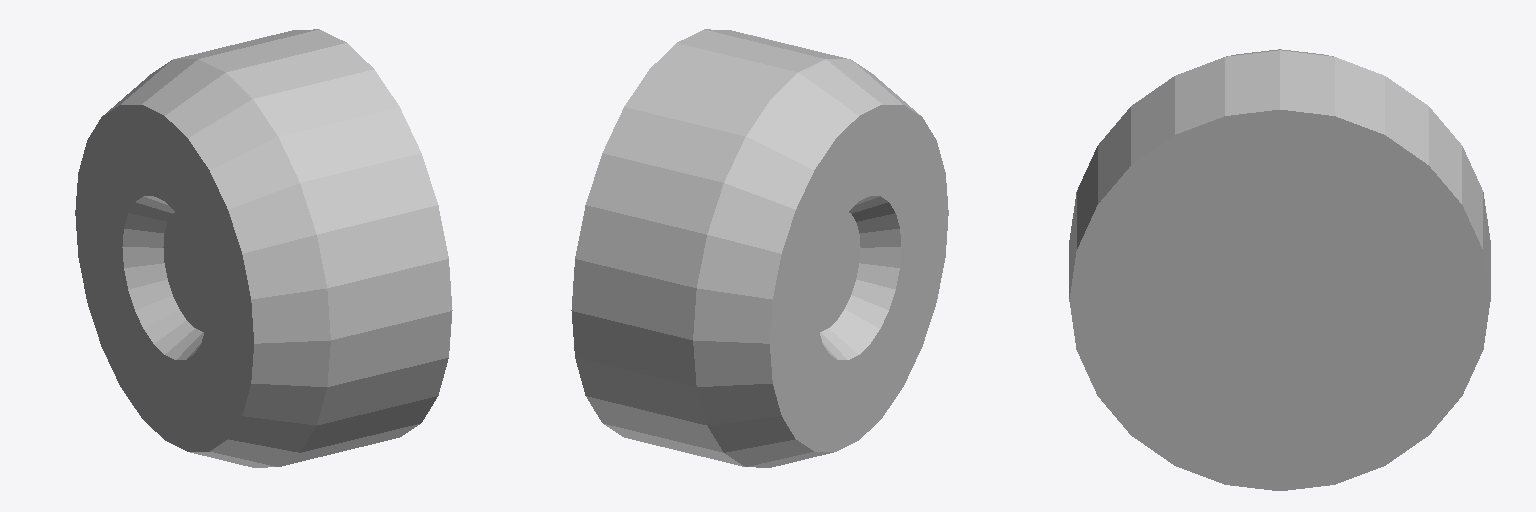
Rendered from wheelDefault.obj.
3 renders of one model, left to right at view 1: azimuth 30°, elevation 25°; view 2: azimuth 150°, elevation 25°; view 3: azimuth 270°, elevation 25°, orthographic.
Parts seen in each view (by area): view 1: wheelDefault; view 2: wheelDefault; view 3: wheelDefault.
Boxes of the visible parts, x1,y1,x2,y2 form: wheelDefault: [75, 29, 452, 467]; wheelDefault: [571, 29, 948, 467]; wheelDefault: [1069, 49, 1490, 490].
Bounding box in the file's own units: 0.225 × 0.45 × 0.45.